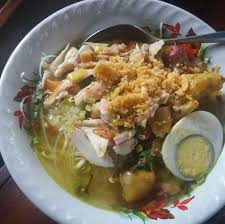soto: (12, 21, 225, 213)
